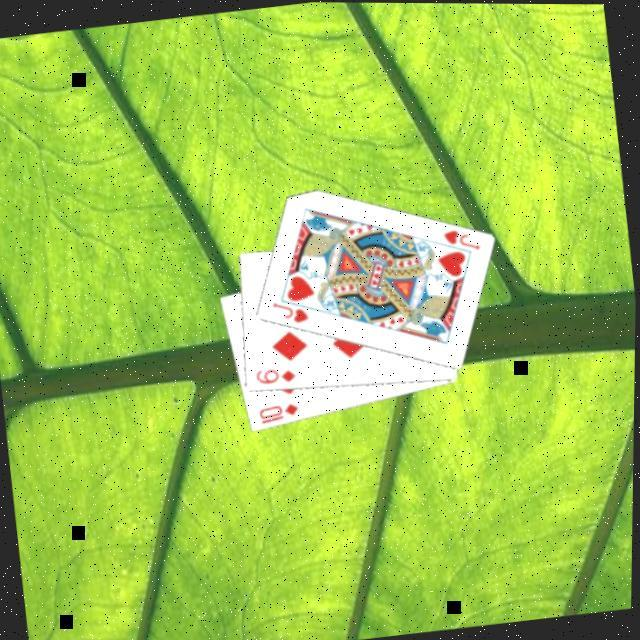10D: (256, 399, 304, 428)
6D: (253, 362, 300, 390)
JH: (269, 295, 314, 329), (440, 222, 484, 256)
